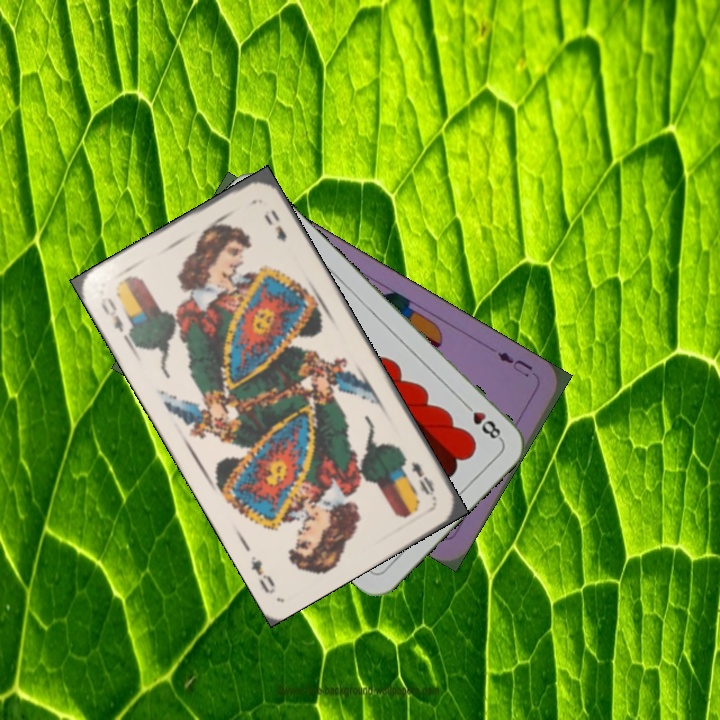EO: (96, 293, 136, 344), (407, 458, 439, 502)
EU: (493, 347, 536, 380)
H8: (458, 397, 504, 443)
